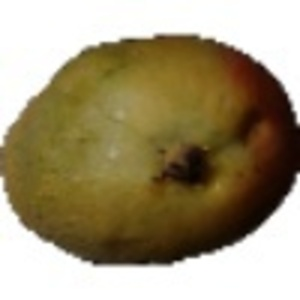mamão: (3, 26, 298, 275)
